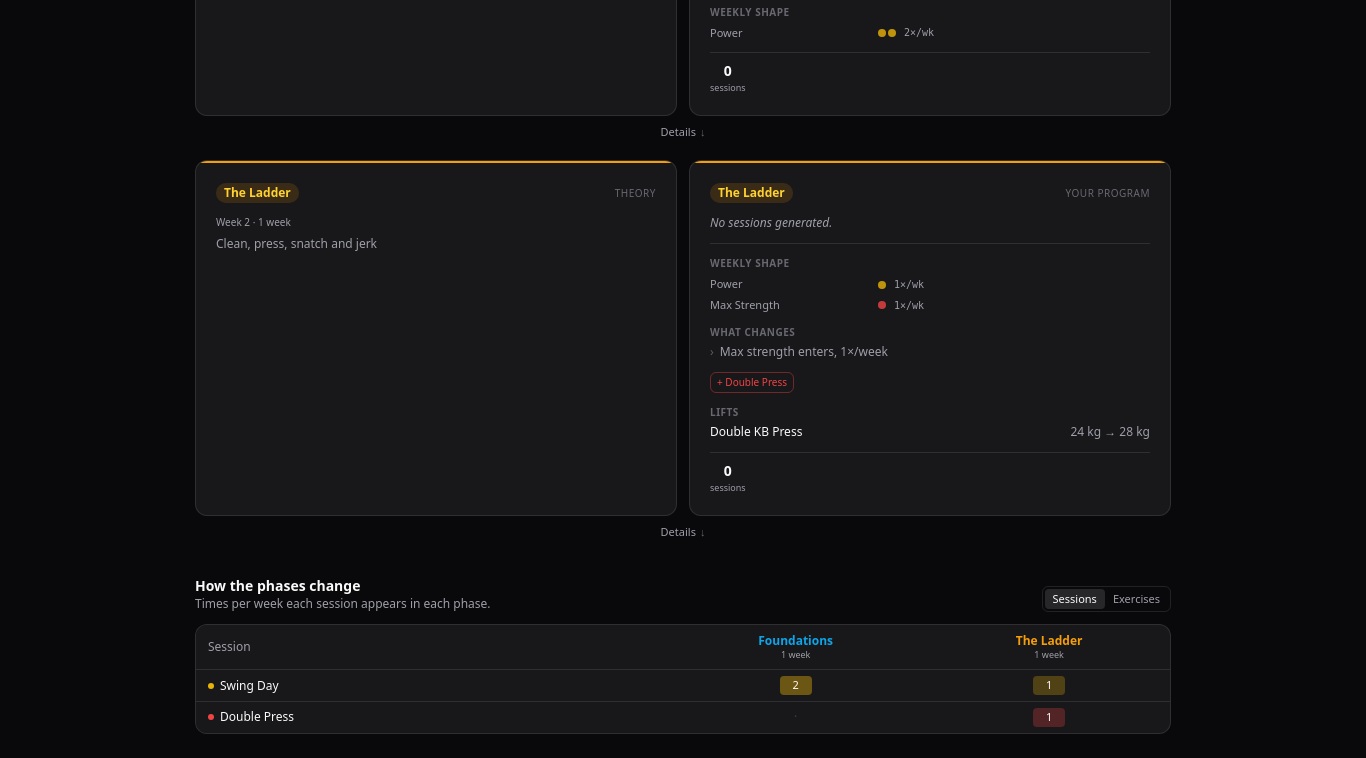
Scenario: ProgramOverview phase changes › reads the matrix by session or by exercise
The width and height of the screenshot is (1366, 758).
(page scrolled)
Expected: the table shows "Swing Day", [220,676,279,694]
What coordinates should you click on to do the following:
click the tab "Exercises"
I would click on:
 (1136, 599)
Its box is [1105,589,1168,609].
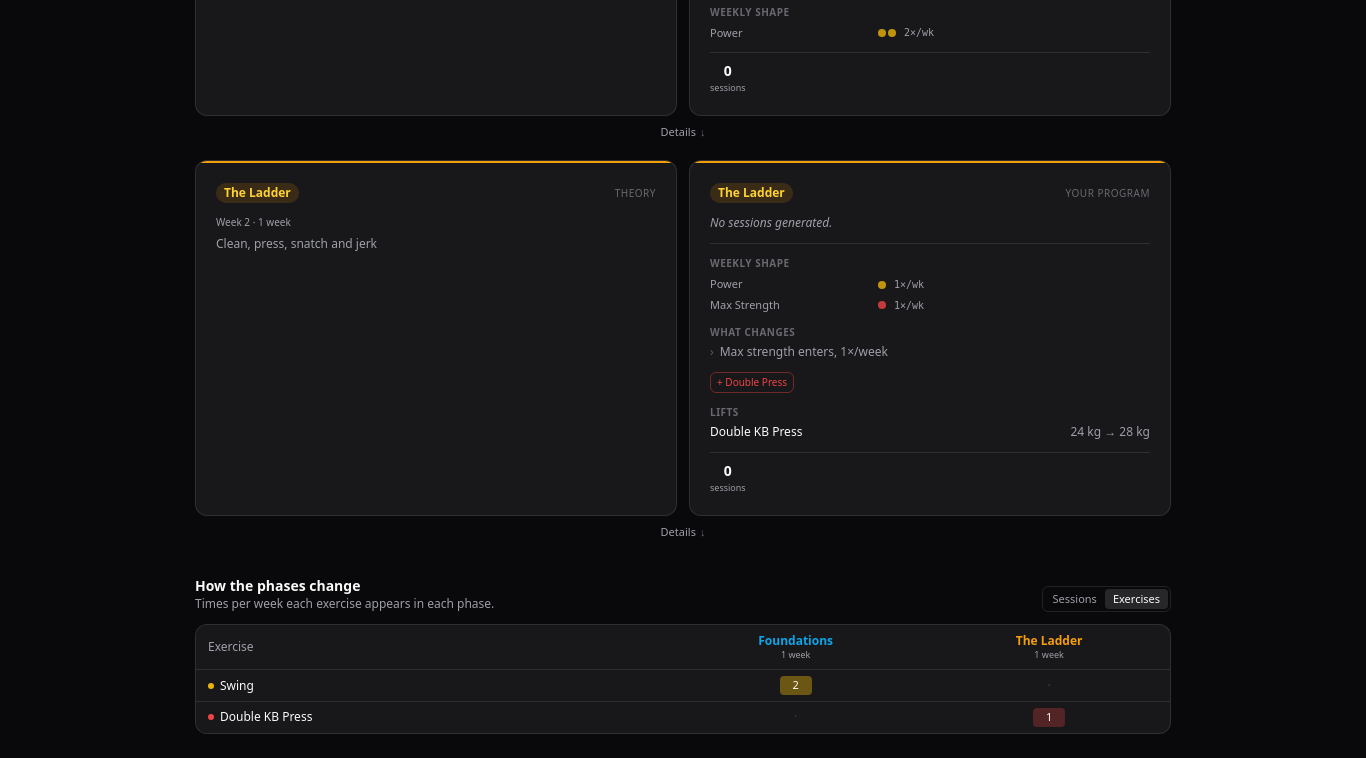
Now the table shows "Double KB Press", box [220,708,312,725]
